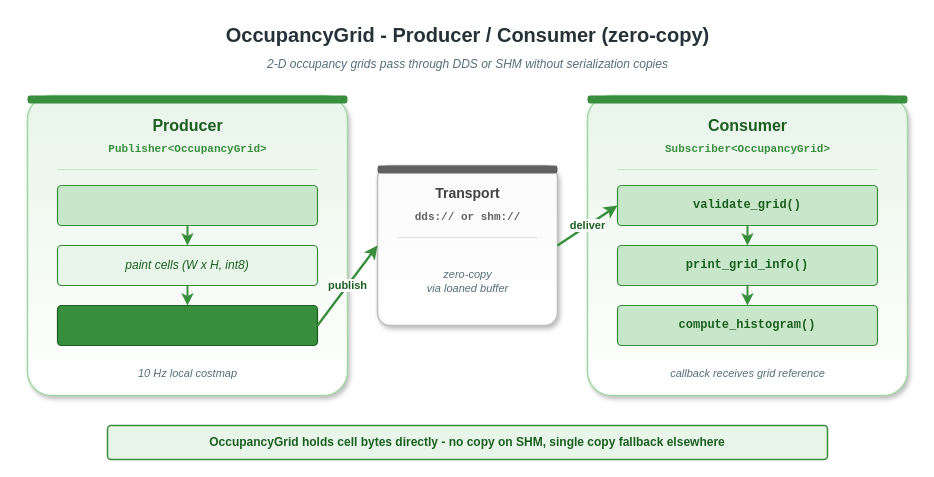
This 934x477 diagram has some shape labels left out. Each missing label, with the centre of its shape:
"create_test_grid()" goes at (x=187, y=205).
"publish(grid)" goes at (x=187, y=325).
